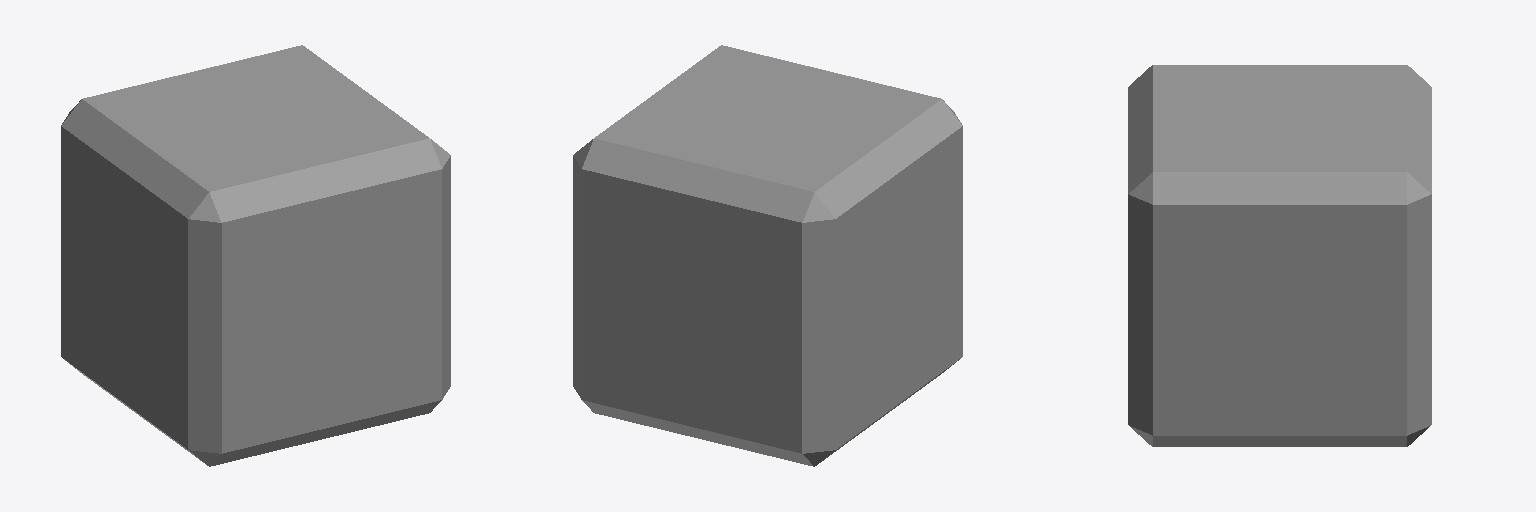
Rendered from block.obj.
3 views of the same model, side by side, from view 1: azimuth 30°, elevation 25°; view 2: azimuth 150°, elevation 25°; view 3: azimuth 270°, elevation 25° (orthographic).
Visible parts, largest first — view 1: Cube_Cube.003; view 2: Cube_Cube.003; view 3: Cube_Cube.003.
Part boxes in pixels (left/top/right/bottom): Cube_Cube.003: left=61, top=45, right=450, bottom=466; Cube_Cube.003: left=573, top=45, right=962, bottom=466; Cube_Cube.003: left=1128, top=65, right=1431, bottom=446.
Bounding box in the file's own units: 1 × 1 × 1.